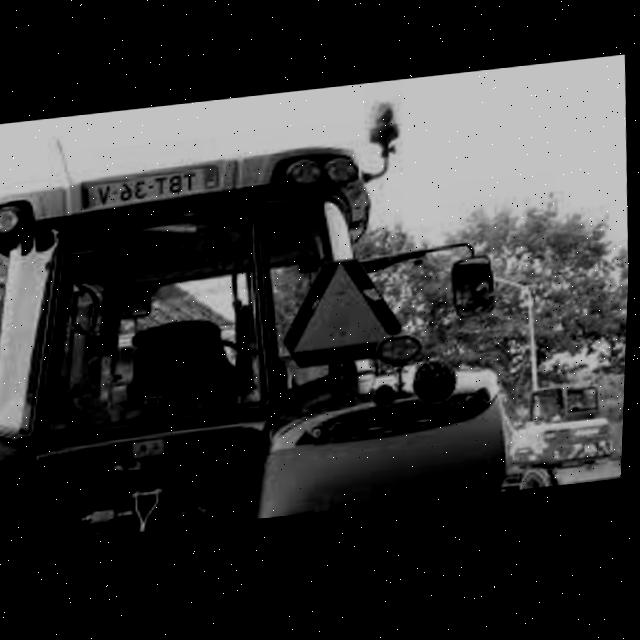license-plates: (84, 164, 217, 208)
